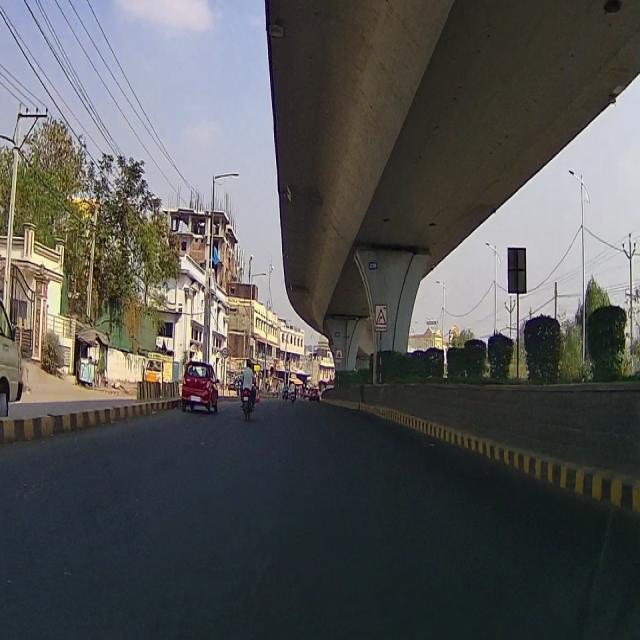right-hand-curve: (374, 304, 388, 328)
